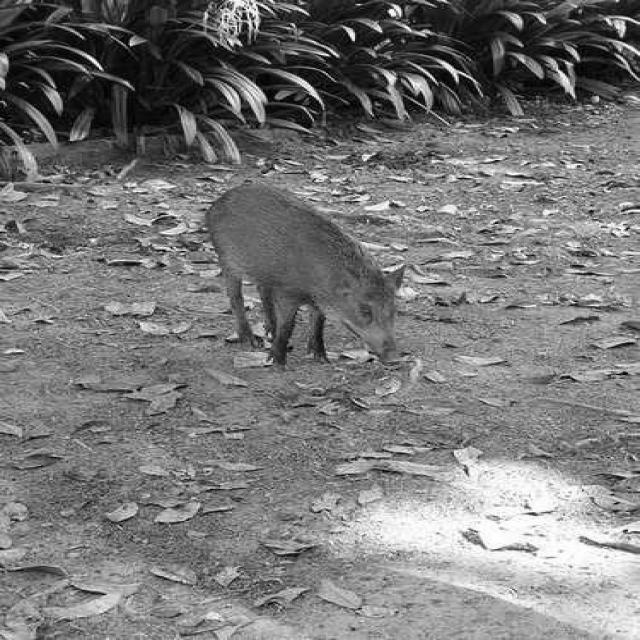boar: (205, 183, 393, 366)
